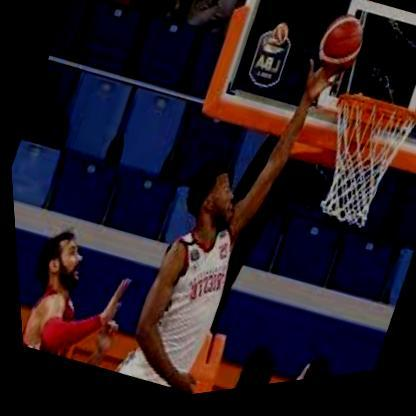basketball: (307, 15, 370, 90)
rim: (291, 89, 416, 251)
